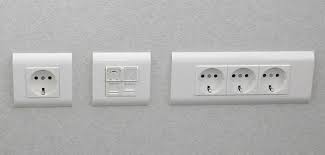raccoon: (27, 68, 58, 96), (229, 66, 256, 93), (261, 65, 286, 94), (198, 66, 224, 93)
